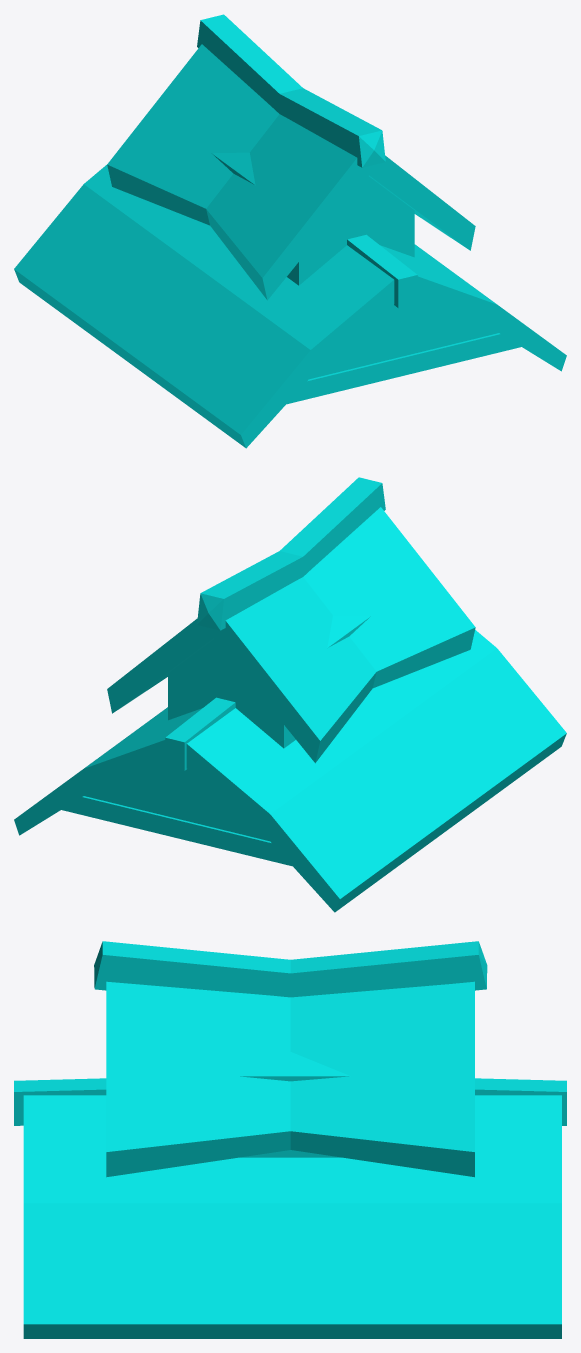
File: SM_Bld_Roof_Thatch_Preset_04_Collision.fbx
The picture shows the model from 3 angles, top to bottom: view 1: azimuth 30°, elevation 25°; view 2: azimuth 150°, elevation 25°; view 3: azimuth 270°, elevation 25°; orthographic projection. The views are drawn at different scales.
Parts seen in each view (by area): view 1: SM_Bld_Roof_Thatch_Preset_04_Collision; view 2: SM_Bld_Roof_Thatch_Preset_04_Collision; view 3: SM_Bld_Roof_Thatch_Preset_04_Collision.
Part boxes in pixels (left/top/right/bottom): SM_Bld_Roof_Thatch_Preset_04_Collision: left=14, top=14, right=566, bottom=448; SM_Bld_Roof_Thatch_Preset_04_Collision: left=14, top=477, right=566, bottom=912; SM_Bld_Roof_Thatch_Preset_04_Collision: left=14, top=941, right=566, bottom=1338.
Size of the model in its own units: 736 by 544 by 910.
